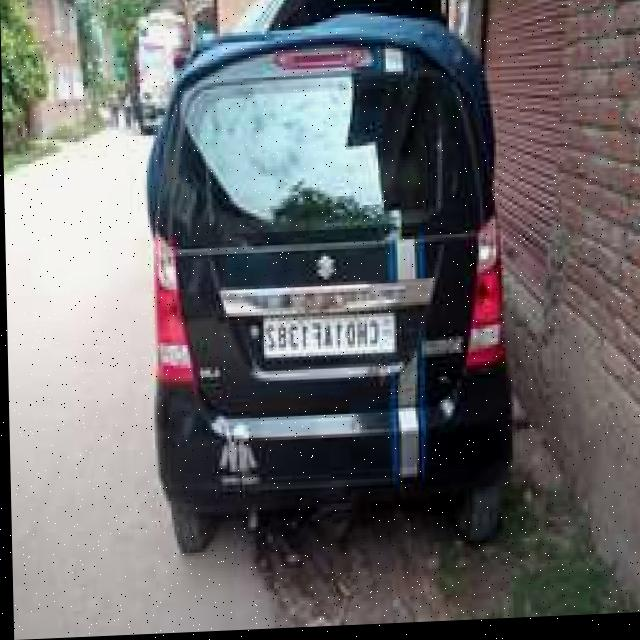plate: (260, 310, 395, 360)
